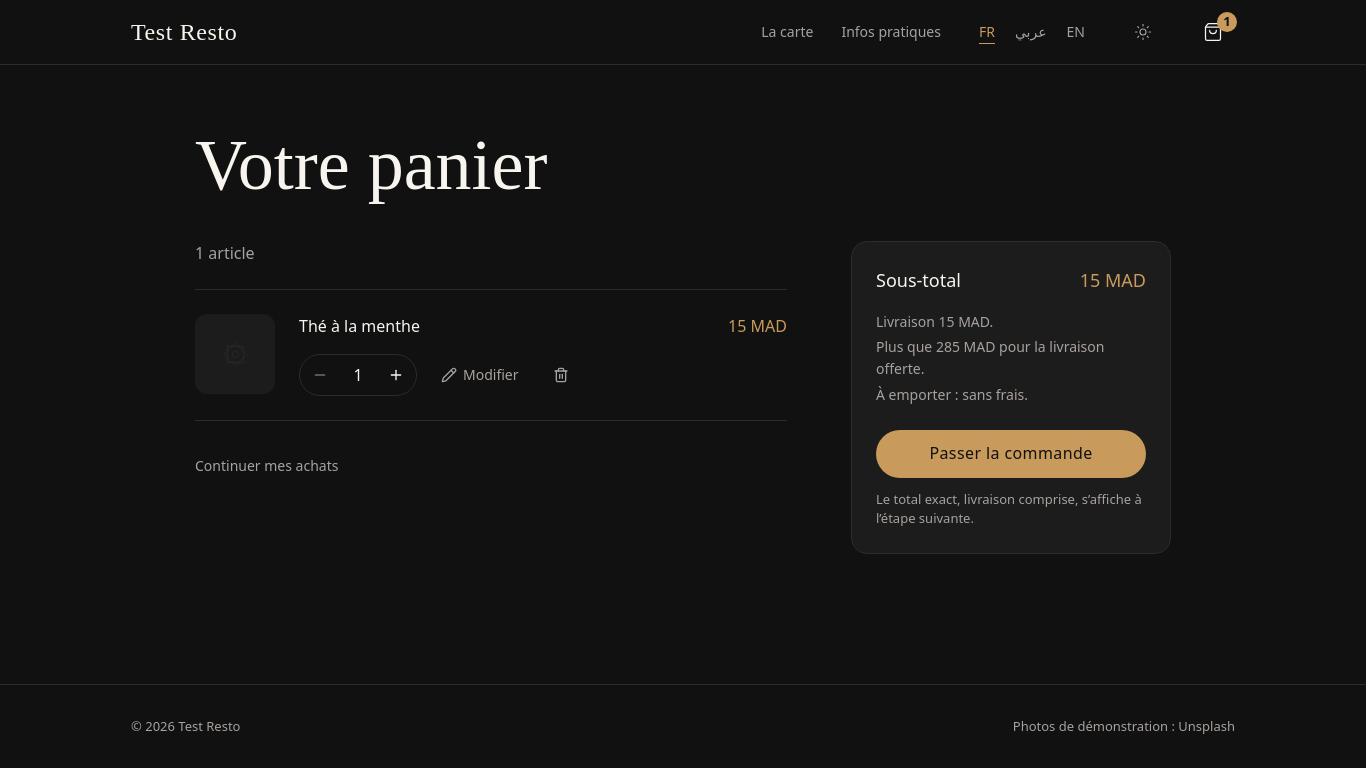
Test: cart page › updates quantities, the estimated subtotal and removes lines
Click the button named "Ajouter une unité" at x=396, y=375, box [378, 357, 414, 393]
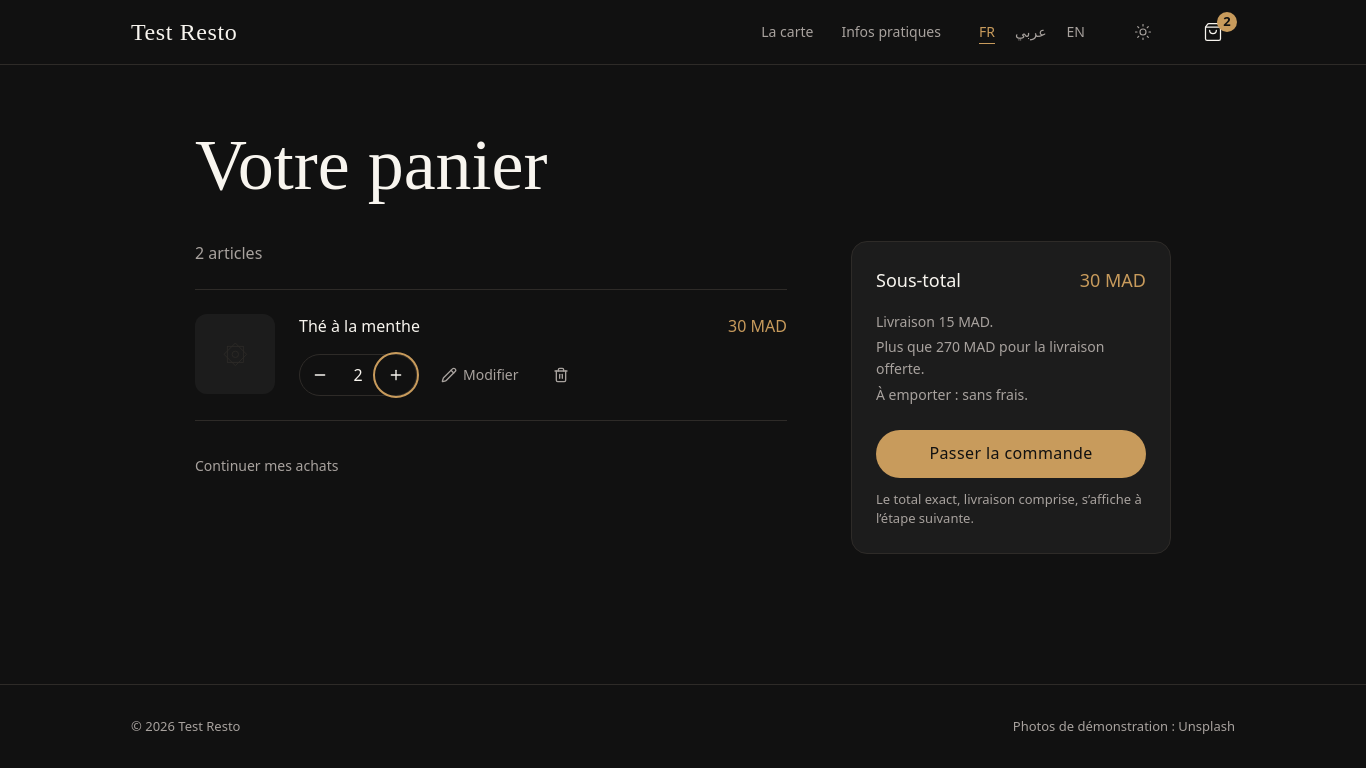
Expected: the text "30 MAD" is shown 2 times, [728, 314, 787, 338]; [1080, 266, 1146, 295]
Click the button named "Retirer Thé à la menthe" at x=560, y=375, box [542, 357, 578, 393]
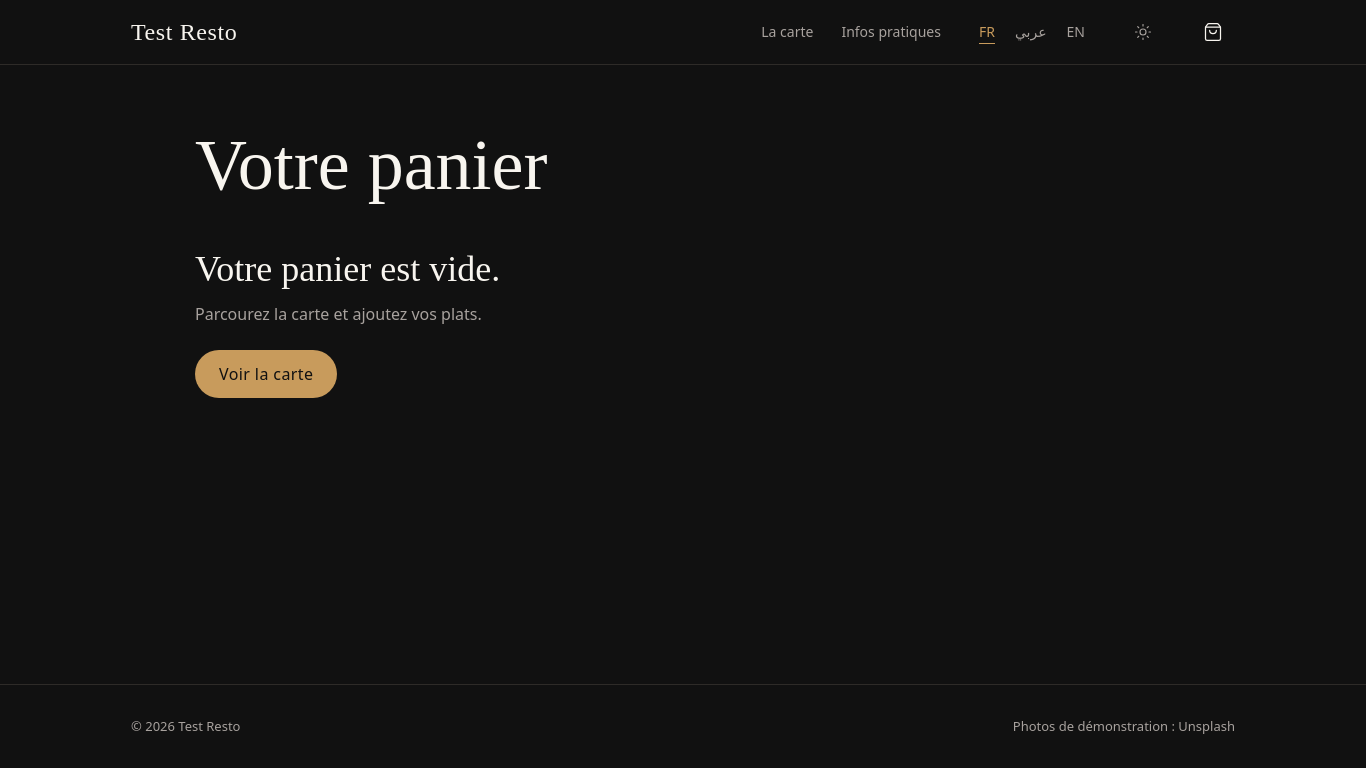
Result: the text "Votre panier est vide." is shown at [195, 249, 500, 290]
